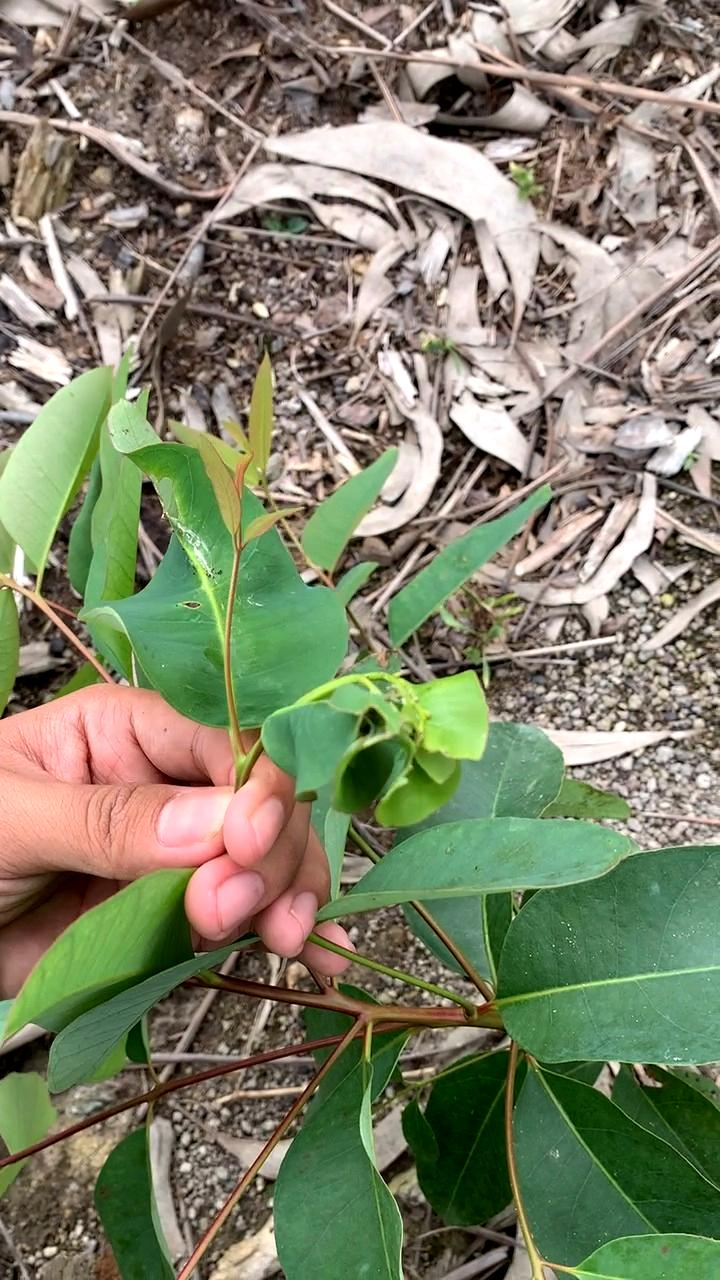Leaf Roller - Leaf: (320, 683, 497, 825)
